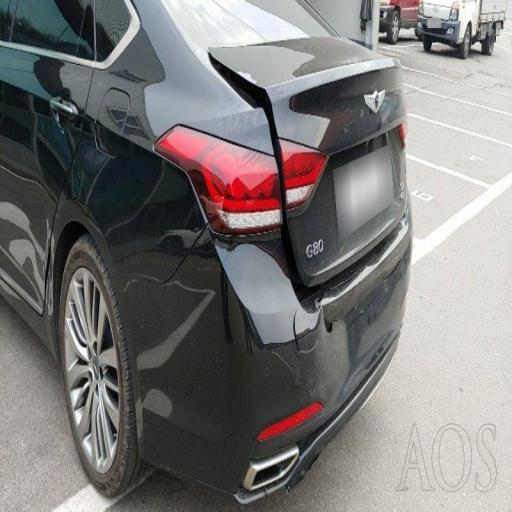broken: (162, 26, 403, 419)
